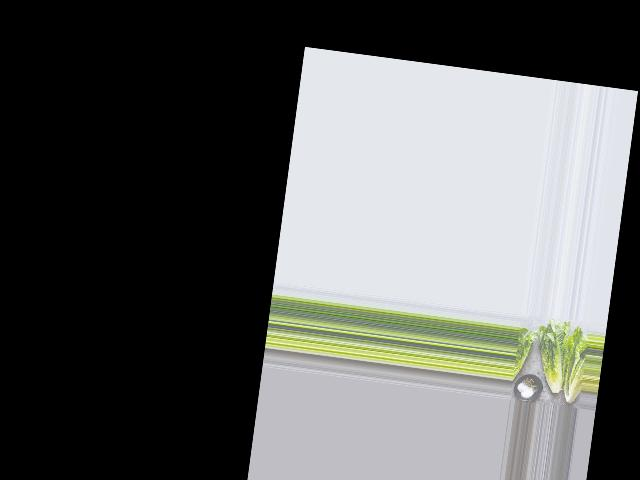lettuce: (558, 330, 588, 408)
